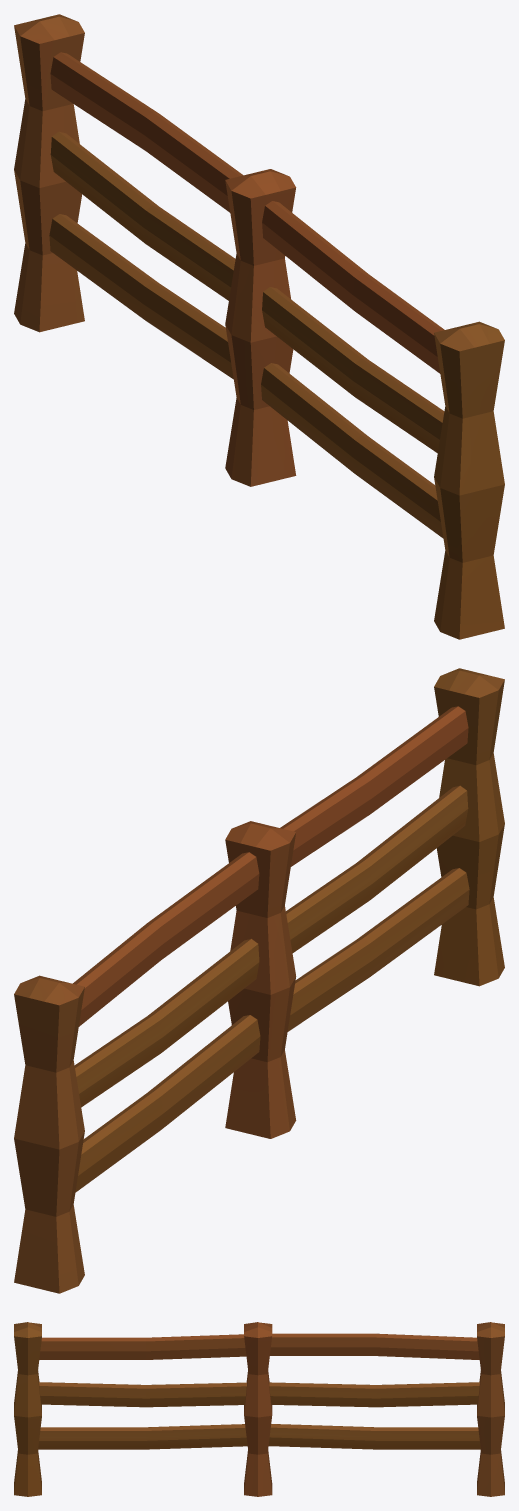
The model's file is SM_Farm_Building_Fence.fbx.
3 renders of one model, top to bottom at view 1: azimuth 30°, elevation 25°; view 2: azimuth 150°, elevation 25°; view 3: azimuth 270°, elevation 25°, orthographic. The views are drawn at different scales.
Visible parts, largest first — view 1: Cube.026; view 2: Cube.026; view 3: Cube.026.
Boxes of the visible parts, x1,y1,x2,y2 form: Cube.026: (14,14,504,639); Cube.026: (14,668,504,1293); Cube.026: (14,1322,504,1496).
Size of the model in its own units: 27.15 by 132 by 358.
Materials: 1 (1 with a texture image).
